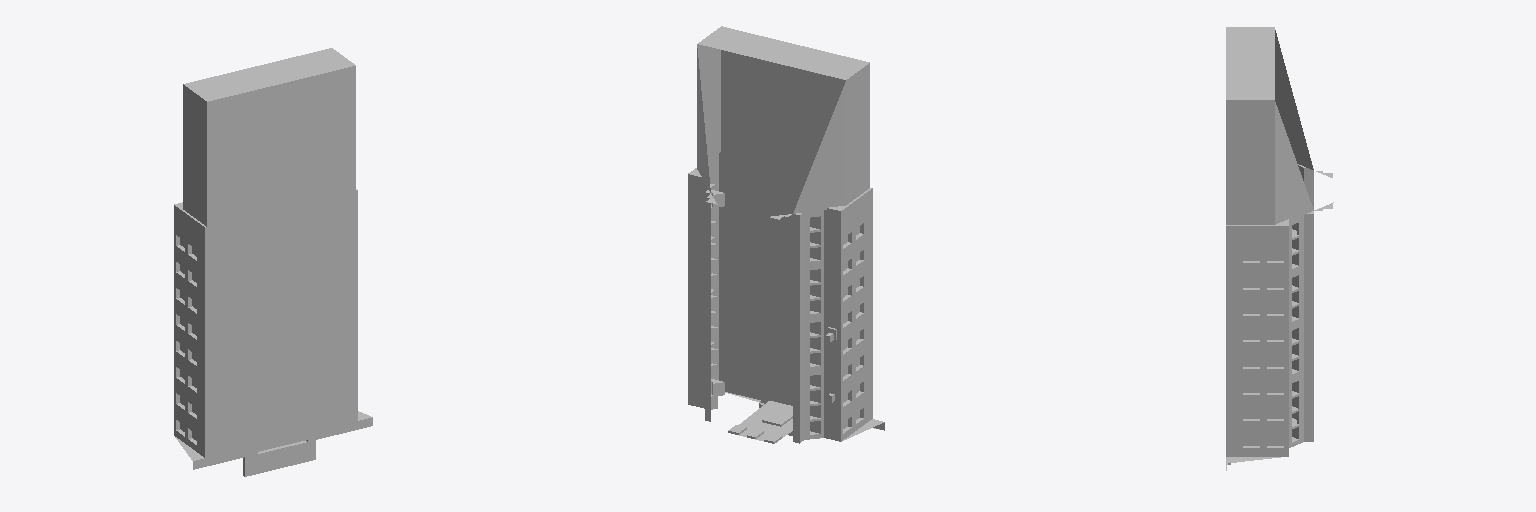
3 views of the same model, side by side, from view 1: azimuth 30°, elevation 25°; view 2: azimuth 150°, elevation 25°; view 3: azimuth 270°, elevation 25° (orthographic).
Visible parts, largest first — view 1: samochodowka_cz1; view 2: samochodowka_cz1; view 3: samochodowka_cz1.
Part boxes in pixels (bbox=[...]): samochodowka_cz1: bbox=[174, 48, 372, 476]; samochodowka_cz1: bbox=[688, 26, 884, 443]; samochodowka_cz1: bbox=[1226, 27, 1333, 470].
Bounding box in the file's own units: 0.0253 × 0.0515 × 0.0131.